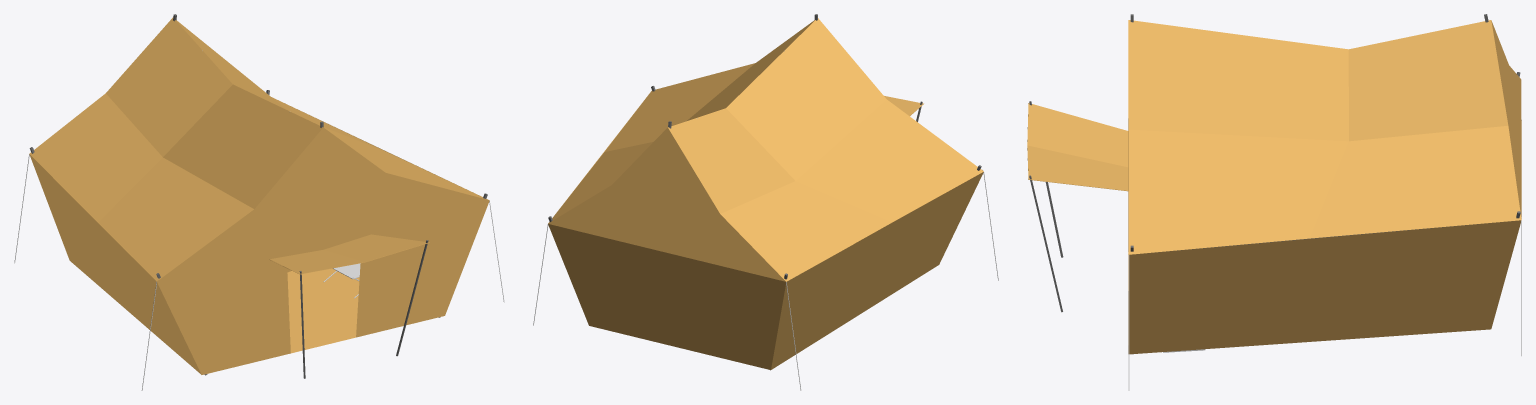
The model's file is sanitätszelt_04.fbx.
The picture shows the model from 3 angles, left to right: view 1: azimuth 30°, elevation 25°; view 2: azimuth 150°, elevation 25°; view 3: azimuth 270°, elevation 25°; orthographic projection. The views are drawn at different scales.
Parts seen in each view (by area): view 1: dach_1, Würfel_8_4, vordach; view 2: dach_1, Würfel_8_4; view 3: dach_1, Würfel_8_4, vordach.
Boxes of the visible parts, bbox=[...] form: dach_1: bbox=[29, 17, 489, 281]; Würfel_8_4: bbox=[29, 103, 489, 374]; vordach: bbox=[269, 234, 429, 274]; dach_1: bbox=[548, 18, 983, 281]; Würfel_8_4: bbox=[548, 103, 983, 369]; dach_1: bbox=[1128, 20, 1521, 254]; Würfel_8_4: bbox=[1128, 120, 1521, 354]; vordach: bbox=[1027, 103, 1128, 191].
Size of the model in its own units: 835 by 494 by 817.
